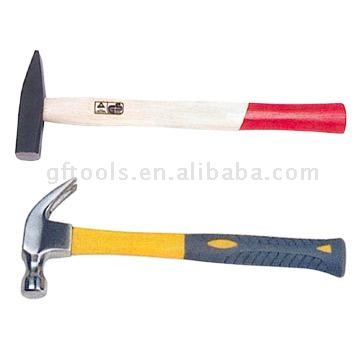hammer: (20, 179, 347, 301), (14, 48, 348, 160)
